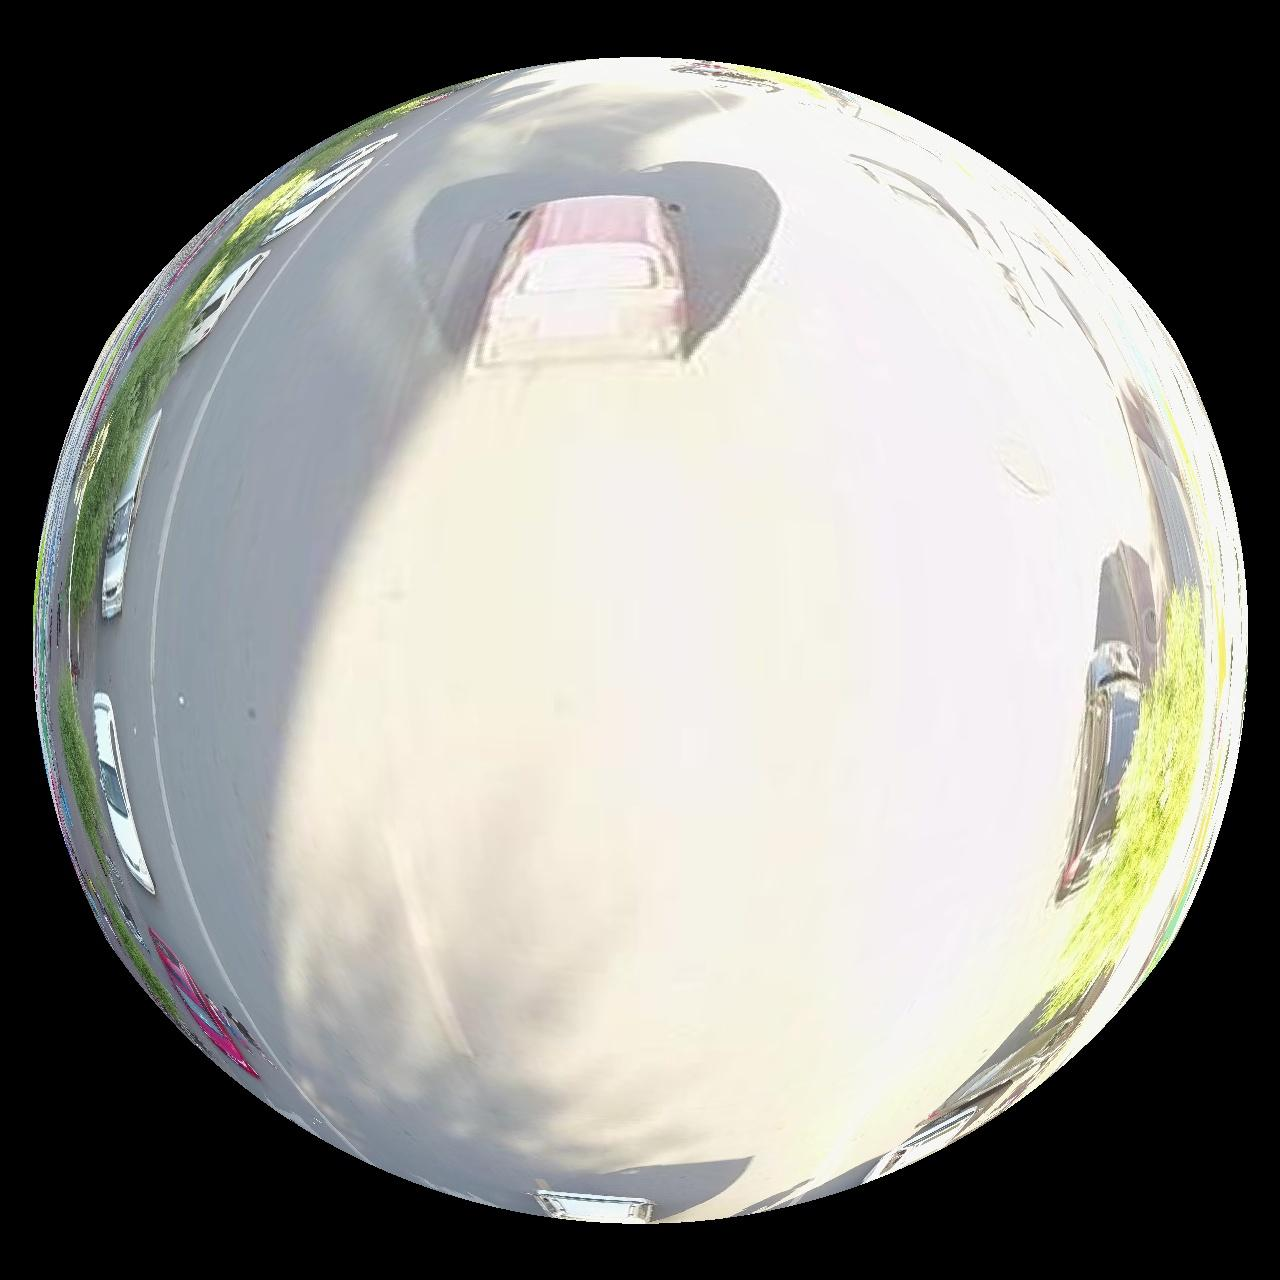cars: (474, 195, 686, 366), (1058, 639, 1148, 901), (1058, 641, 1145, 903), (863, 1088, 1005, 1185), (98, 410, 159, 619), (91, 693, 154, 896), (531, 1166, 710, 1226), (178, 248, 267, 355)
trees: (1042, 588, 1208, 1023)
